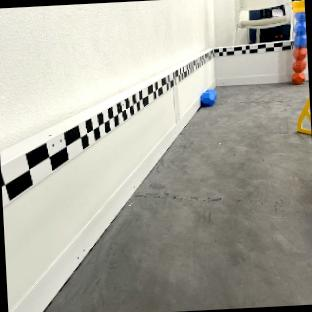V5_BLUE: (199, 88, 216, 106)
V5_RED: (292, 47, 307, 83)
